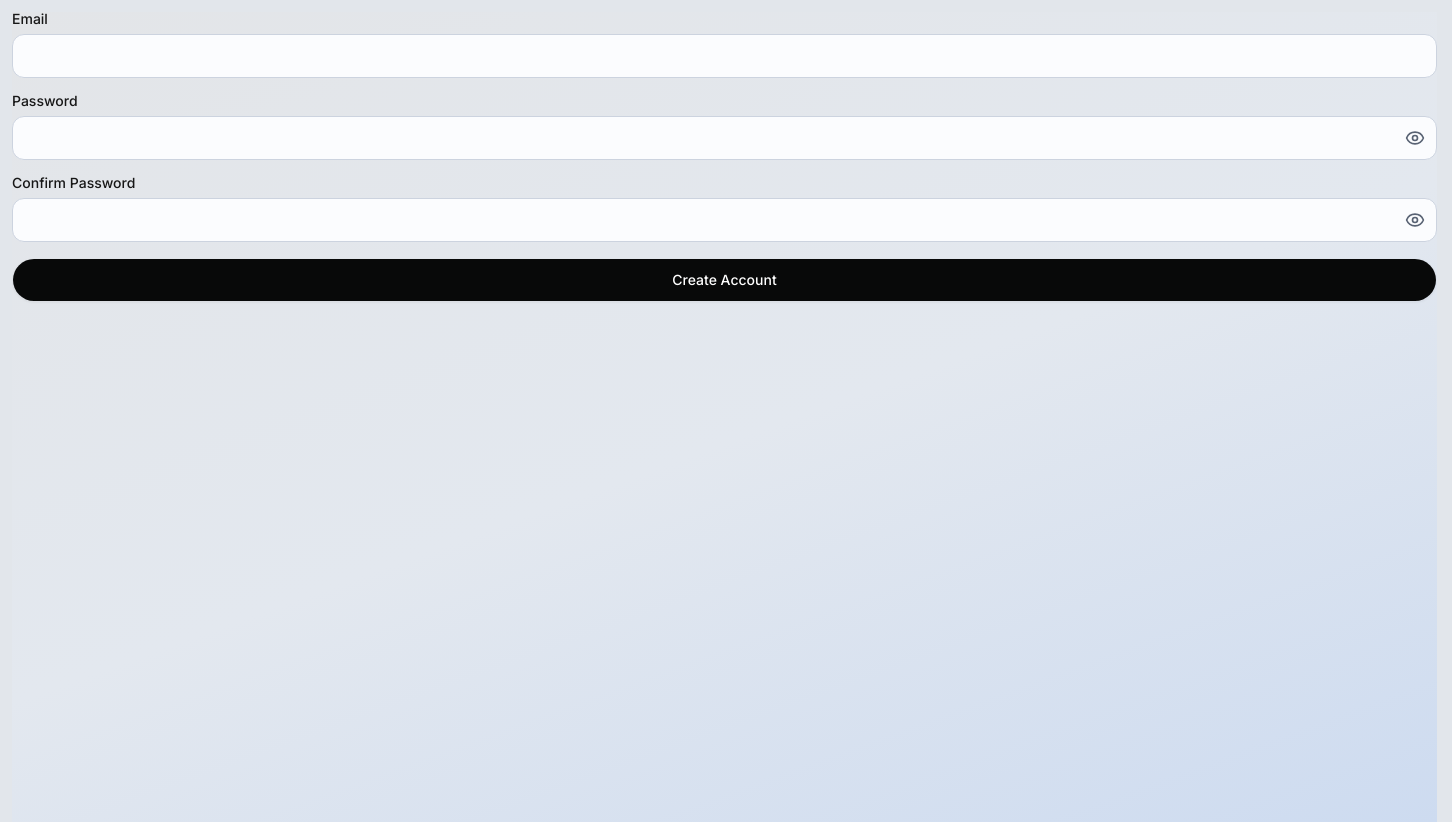
Test: SignupForm › blocks mismatched and short passwords before the request and focuses the first invalid field
Type "raiyan@test.io" into the field labelled "Email" at (724, 56), box [12,34,1437,78]
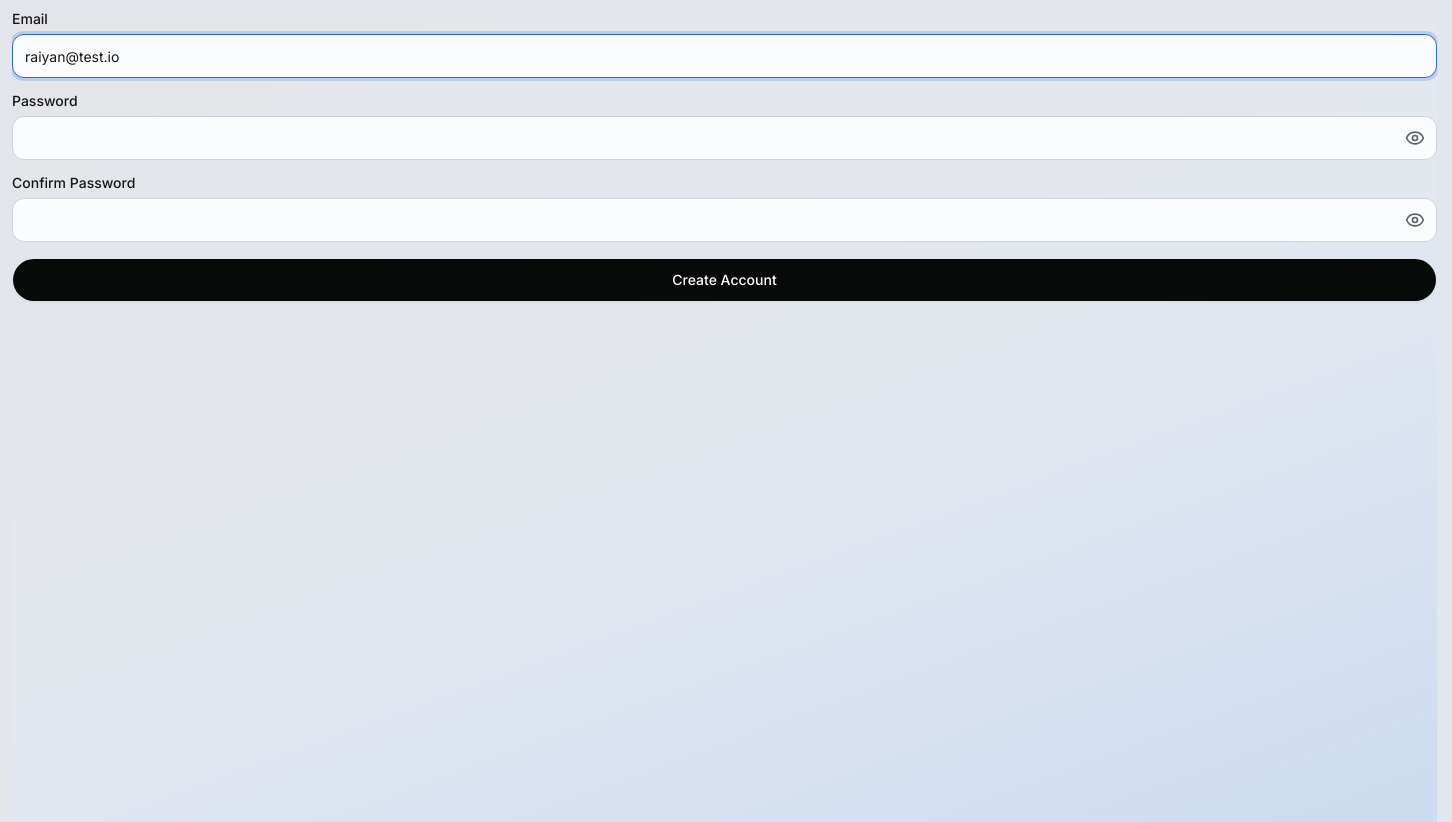
Type "short" into the password field labelled "Password" at (724, 138), box [12,116,1437,160]
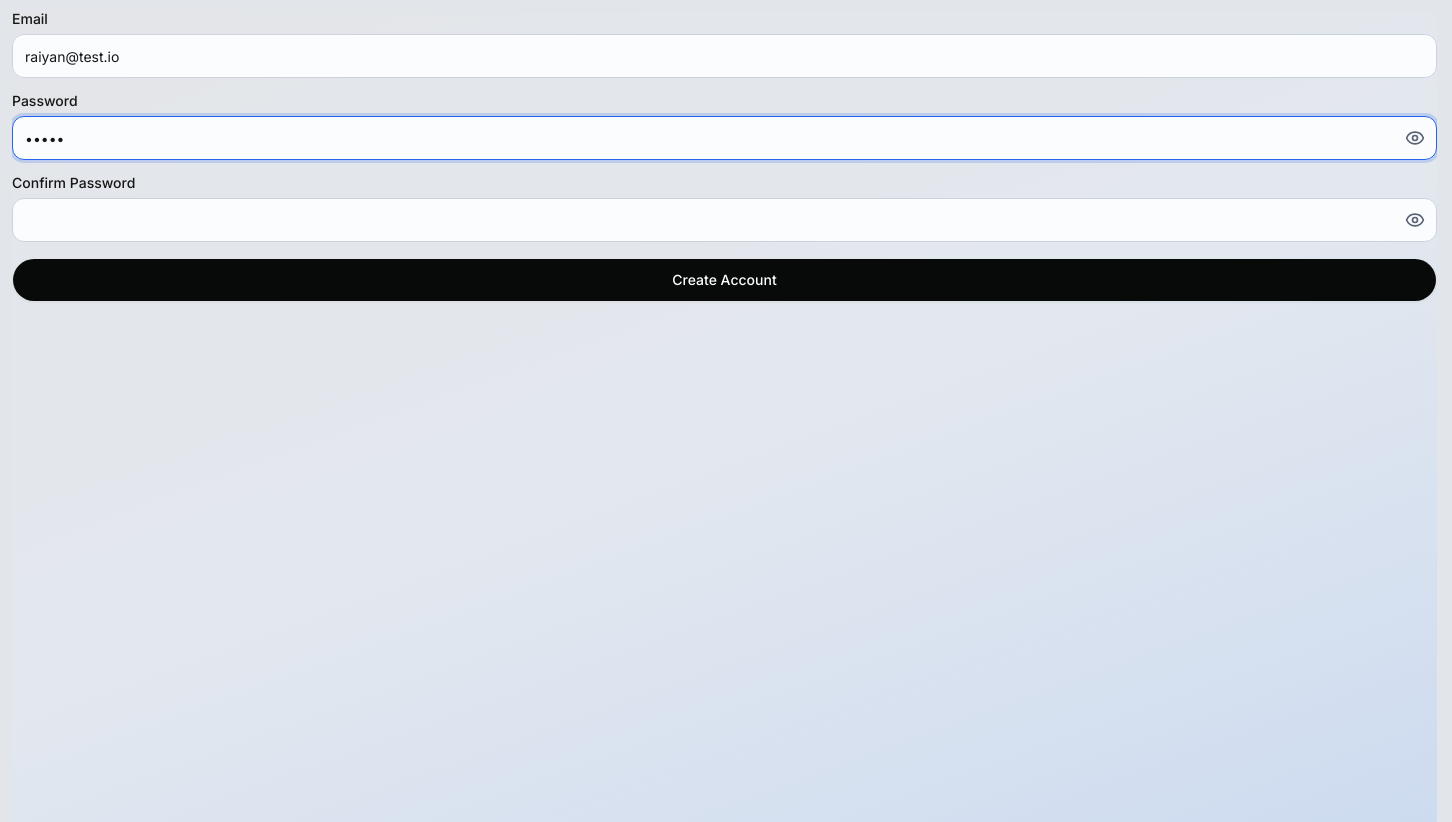
Type "different" into the password field labelled "Confirm Password" at (724, 220), box [12,198,1437,242]
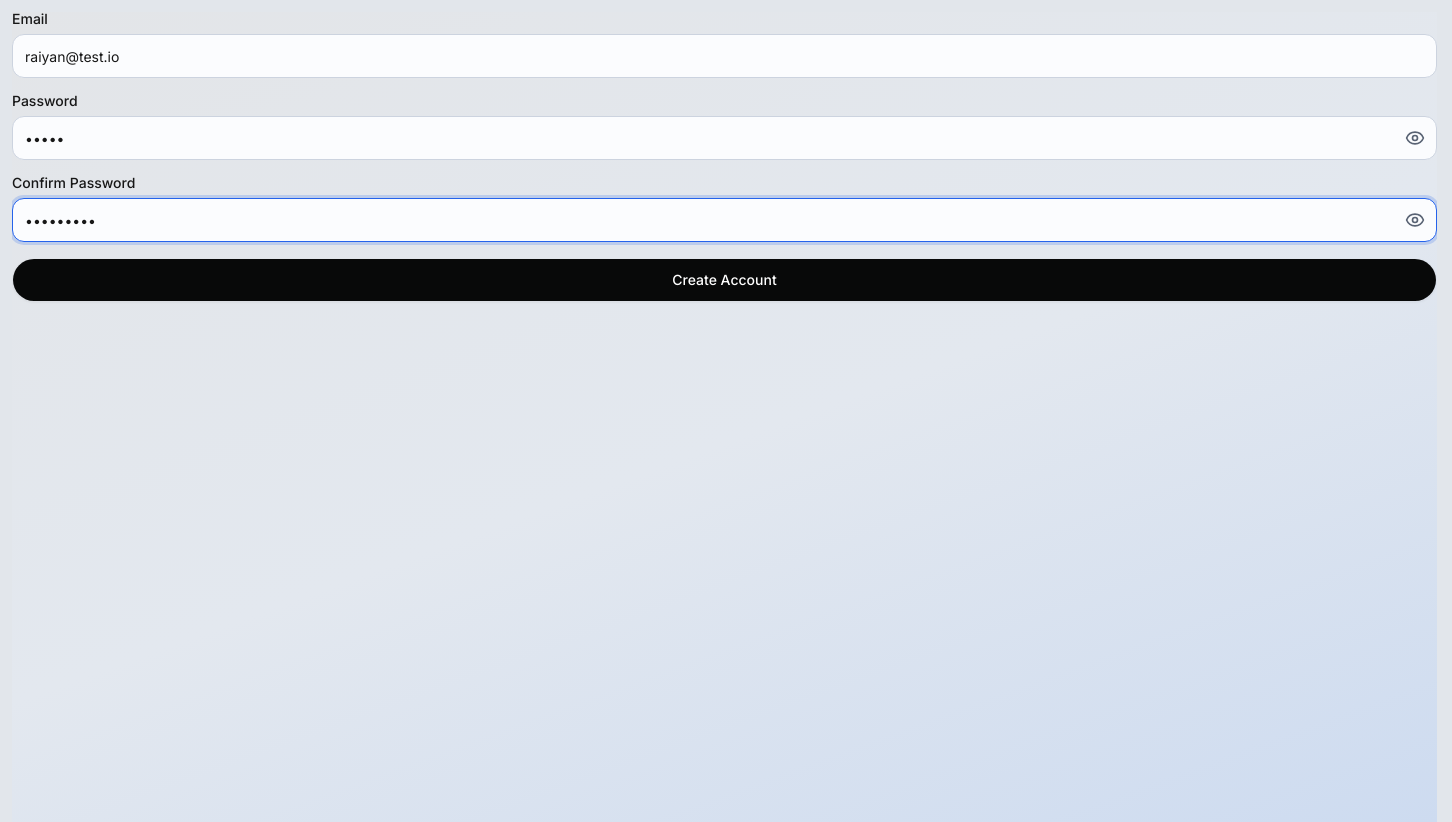
Click the button "Create Account" at (724, 280), box [12,258,1437,302]
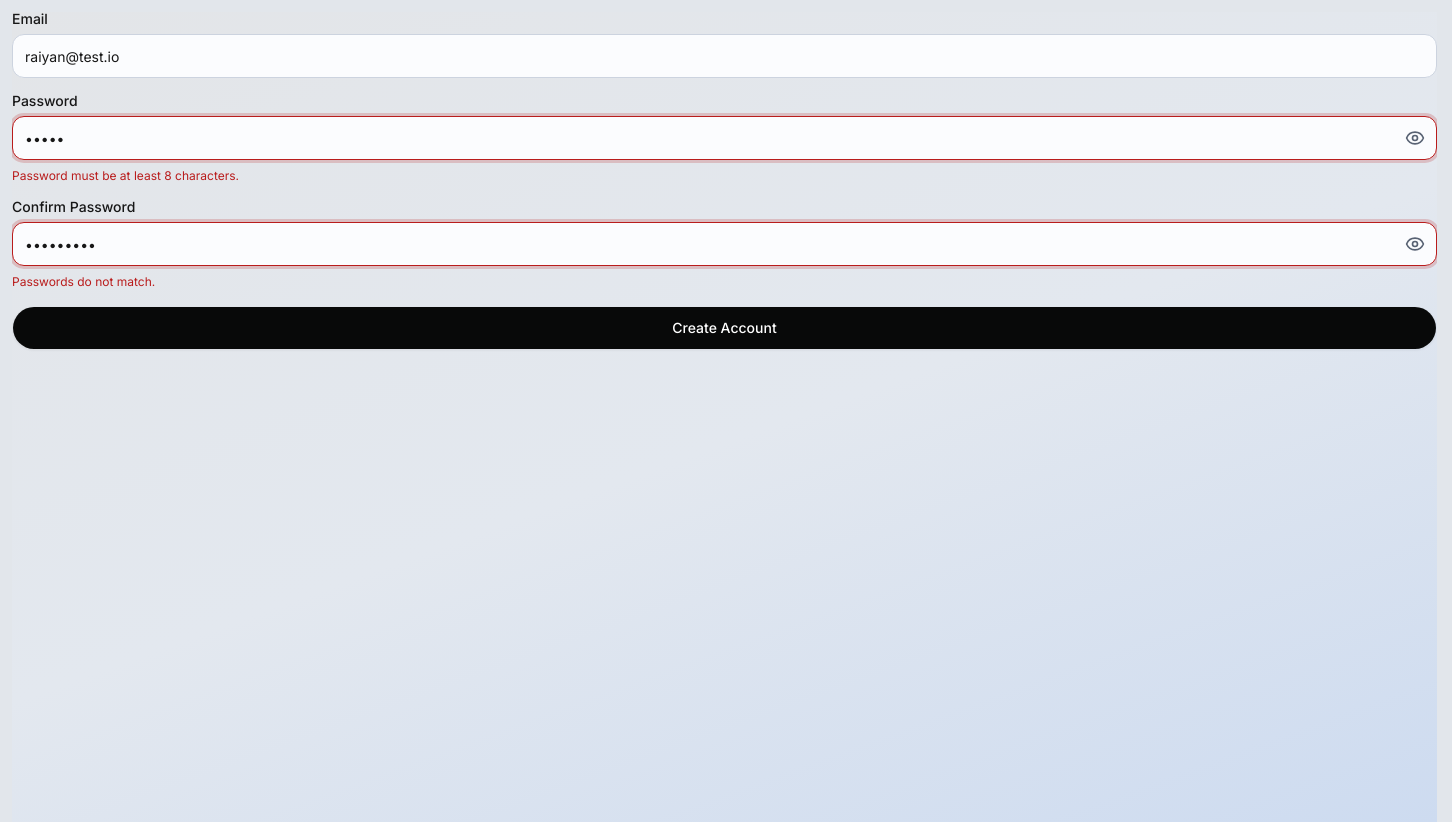
Check: the text "Password must be at least 8 characters." is shown, box [12,168,239,183]
